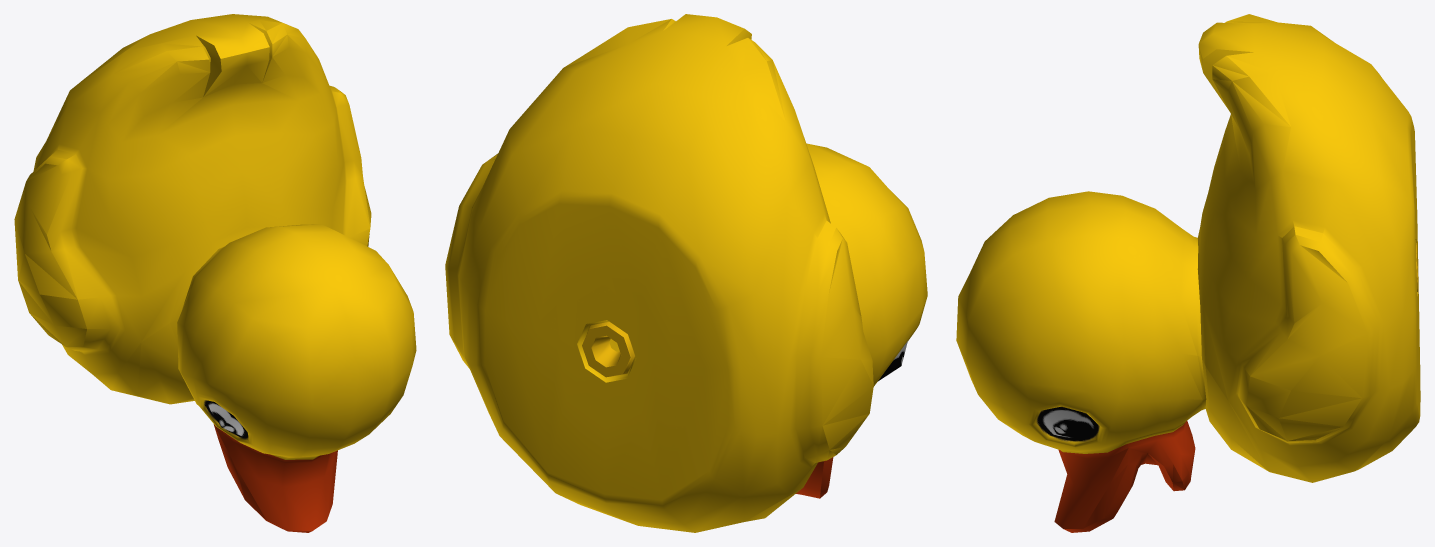
The model's file is duck.gltf.
3 renders of one model, left to right at view 1: azimuth 30°, elevation 25°; view 2: azimuth 150°, elevation 25°; view 3: azimuth 270°, elevation 25°, orthographic. The views are drawn at different scales.
Visible parts, largest first — view 1: duck; view 2: duck; view 3: duck.
Part boxes in pixels (x1,y1,x2,y2): duck: (14,14,416,532); duck: (445,14,927,532); duck: (956,14,1420,532).
Bounding box in the file's own units: 3.13 × 3.96 × 3.38.
1 material, 1 textured.
